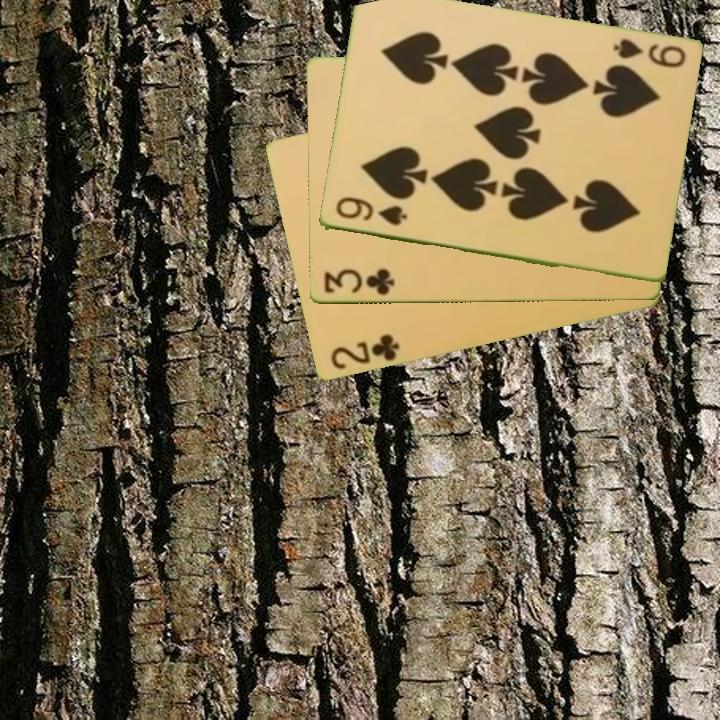2c: (327, 331, 402, 373)
3c: (320, 266, 397, 299)
9s: (609, 36, 688, 71), (332, 194, 410, 229)
